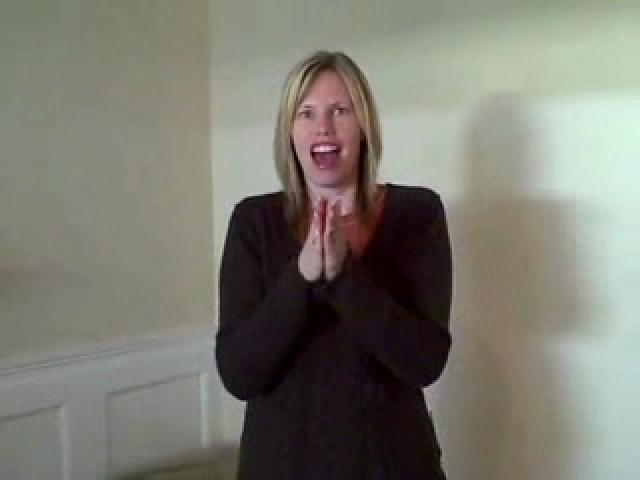F: (196, 43, 464, 469)
